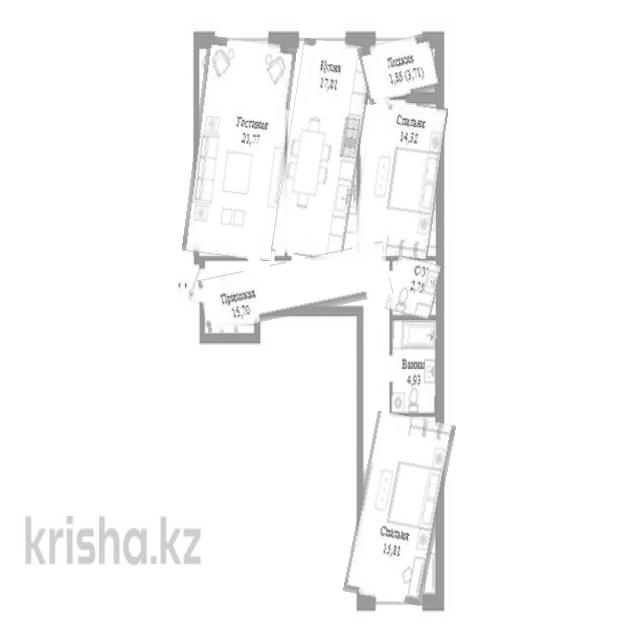balcony: (360, 36, 440, 102)
bathroom: (392, 319, 437, 415), (388, 258, 441, 318)
hallway: (199, 251, 392, 324)
kitchen: (279, 40, 367, 260)
living_room: (189, 38, 291, 259), (352, 414, 448, 604), (356, 100, 443, 257)
